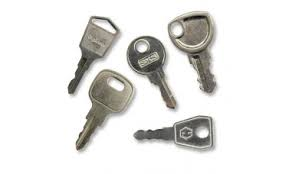kicharina: (164, 5, 222, 93), (65, 13, 123, 95), (133, 114, 215, 153)
